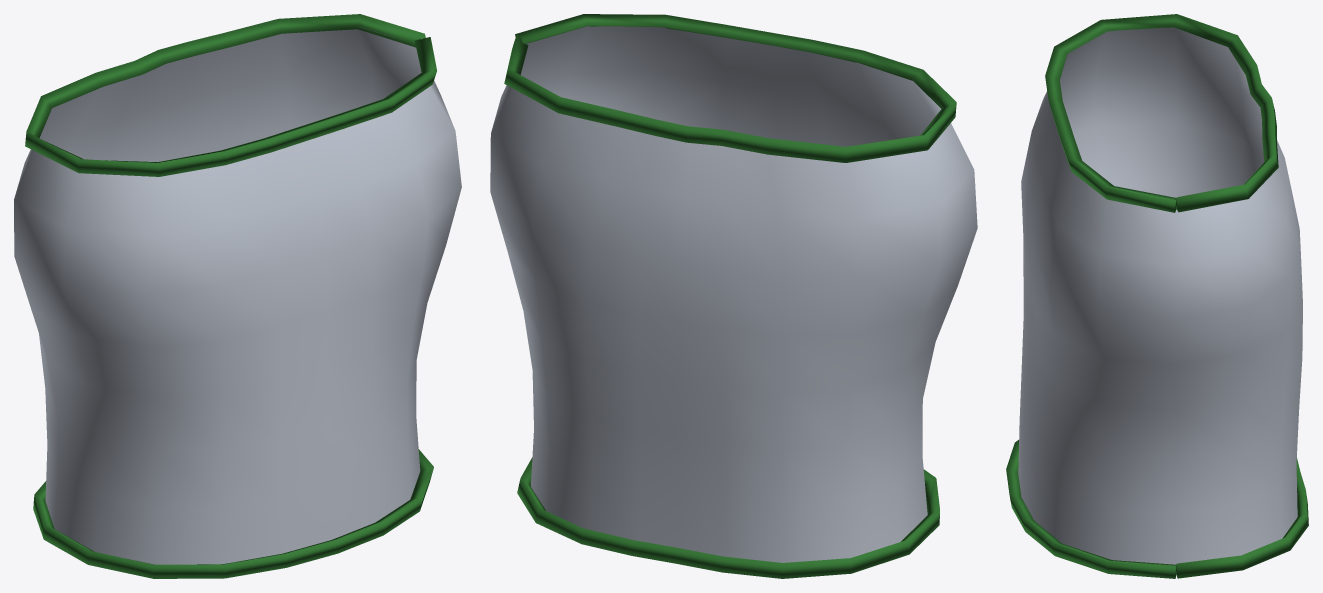
The model's file is golf_outfit_chest.glb.
The picture shows the model from 3 angles, left to right: view 1: azimuth 30°, elevation 25°; view 2: azimuth 150°, elevation 25°; view 3: azimuth 270°, elevation 25°; orthographic projection. The views are drawn at different scales.
Parts seen in each view (by area): view 1: golf_outfit_chest; view 2: golf_outfit_chest; view 3: golf_outfit_chest.
Boxes of the visible parts, x1,y1,x2,y2 form: golf_outfit_chest: (14, 14, 461, 578); golf_outfit_chest: (490, 14, 977, 578); golf_outfit_chest: (1006, 14, 1308, 578).
Bounding box in the file's own units: 0.4168 × 0.3859 × 0.2708.
